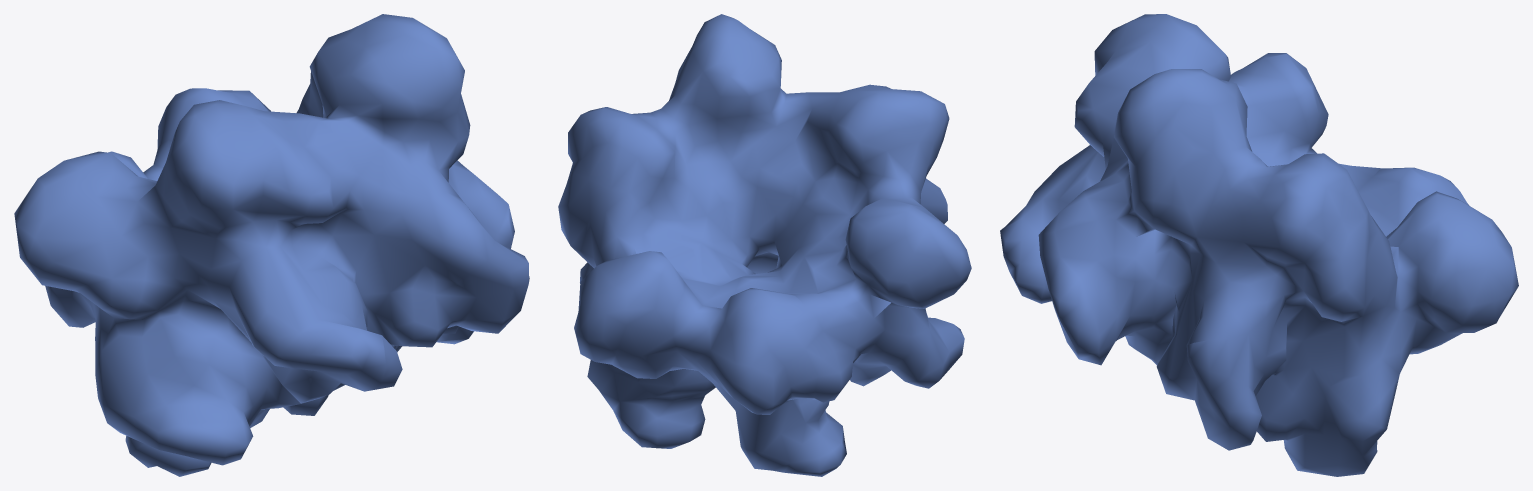
The model's file is hex001G4.dae.
3 views of the same model, side by side, from view 1: azimuth 30°, elevation 25°; view 2: azimuth 150°, elevation 25°; view 3: azimuth 270°, elevation 25° (orthographic). The views are drawn at different scales.
Parts seen in each view (by area): view 1: CoarseMS_hex001; view 2: CoarseMS_hex001; view 3: CoarseMS_hex001.
Boxes of the visible parts, left/top/right/bottom form: CoarseMS_hex001: left=14, top=14, right=529, bottom=476; CoarseMS_hex001: left=558, top=14, right=971, bottom=476; CoarseMS_hex001: left=1000, top=14, right=1518, bottom=476.
Size of the model in its own units: 106 by 96.11 by 109.
